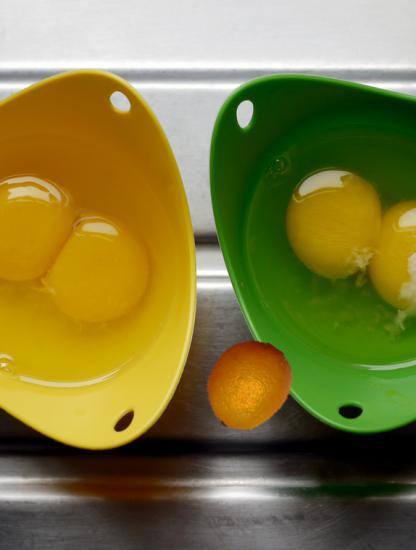Lemon: (198, 338, 295, 435)
